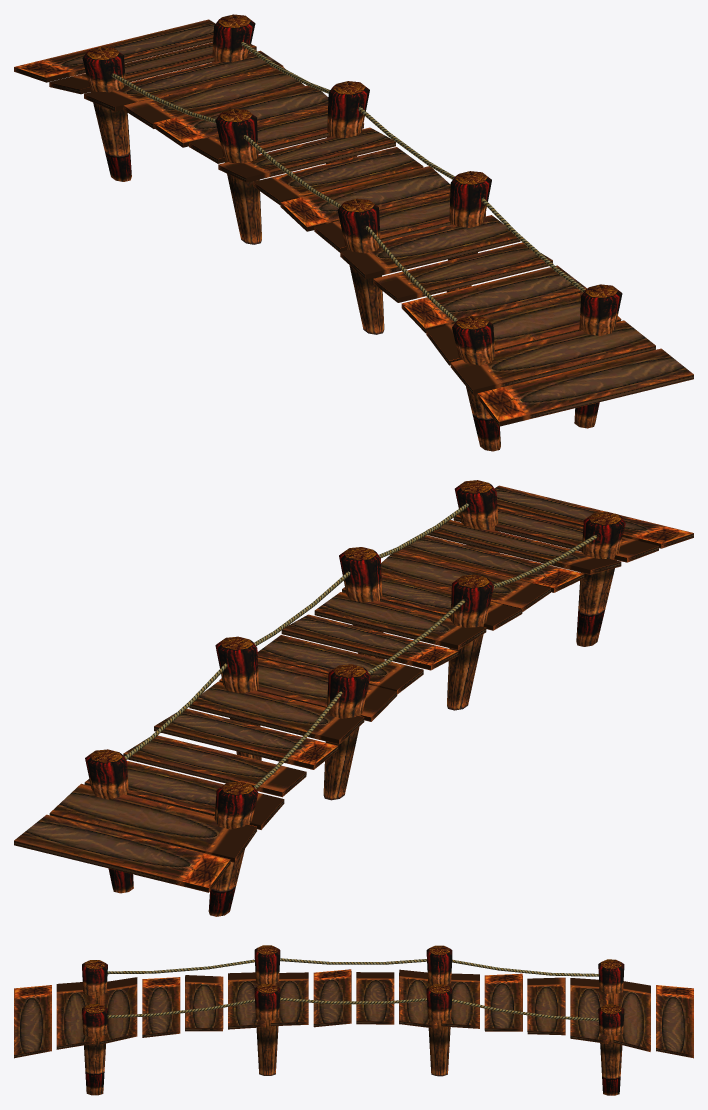
File: BRIDGE_FINAL.obj
The picture shows the model from 3 angles, top to bottom: view 1: azimuth 30°, elevation 25°; view 2: azimuth 150°, elevation 25°; view 3: azimuth 270°, elevation 25°; orthographic projection. The views are drawn at different scales.
Visible parts, largest first — view 1: bridge; view 2: bridge; view 3: bridge.
Boxes of the visible parts, <box> form: bridge: <box>14,14,693,451</box>; bridge: <box>14,480,693,916</box>; bridge: <box>14,945,693,1095</box>.
Size of the model in its own units: 332 by 249 by 1431.
